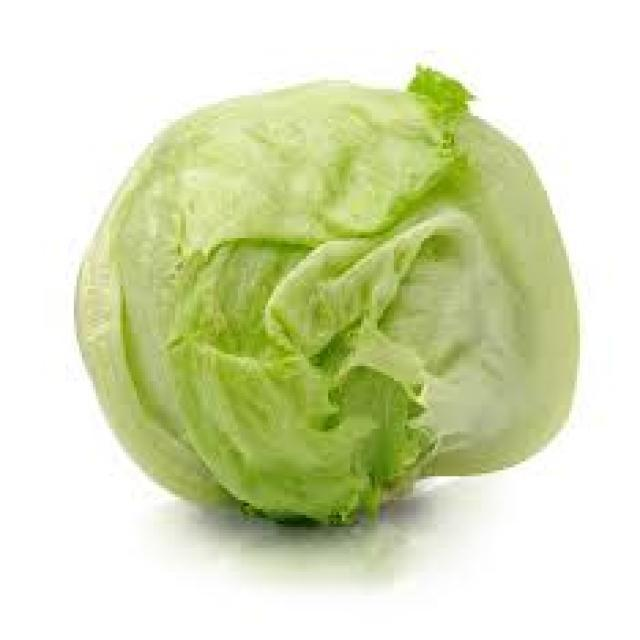Lettuce: (73, 66, 582, 528)
